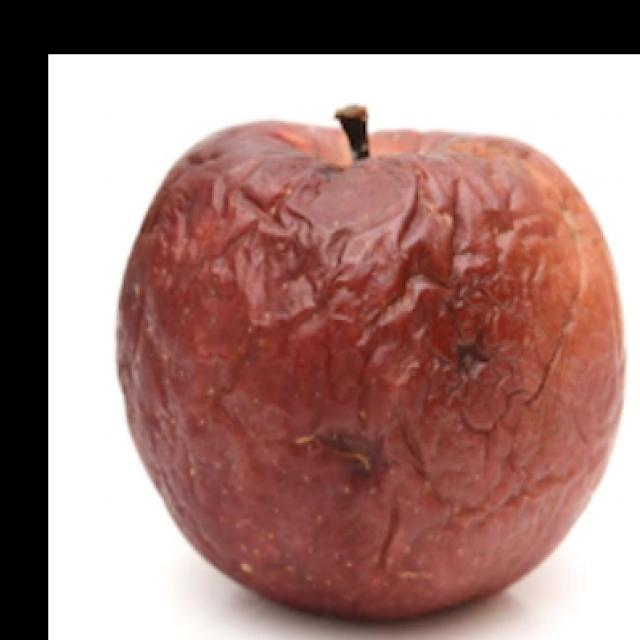Rotten: (113, 104, 628, 620)
